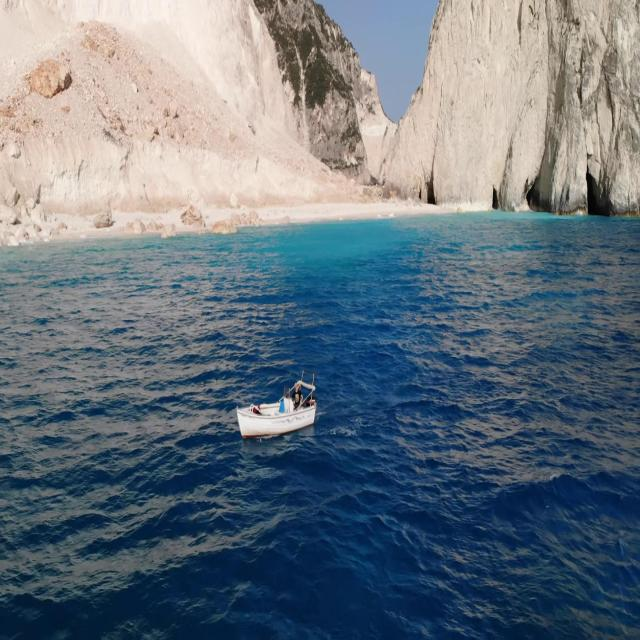boat: (236, 366, 316, 446)
